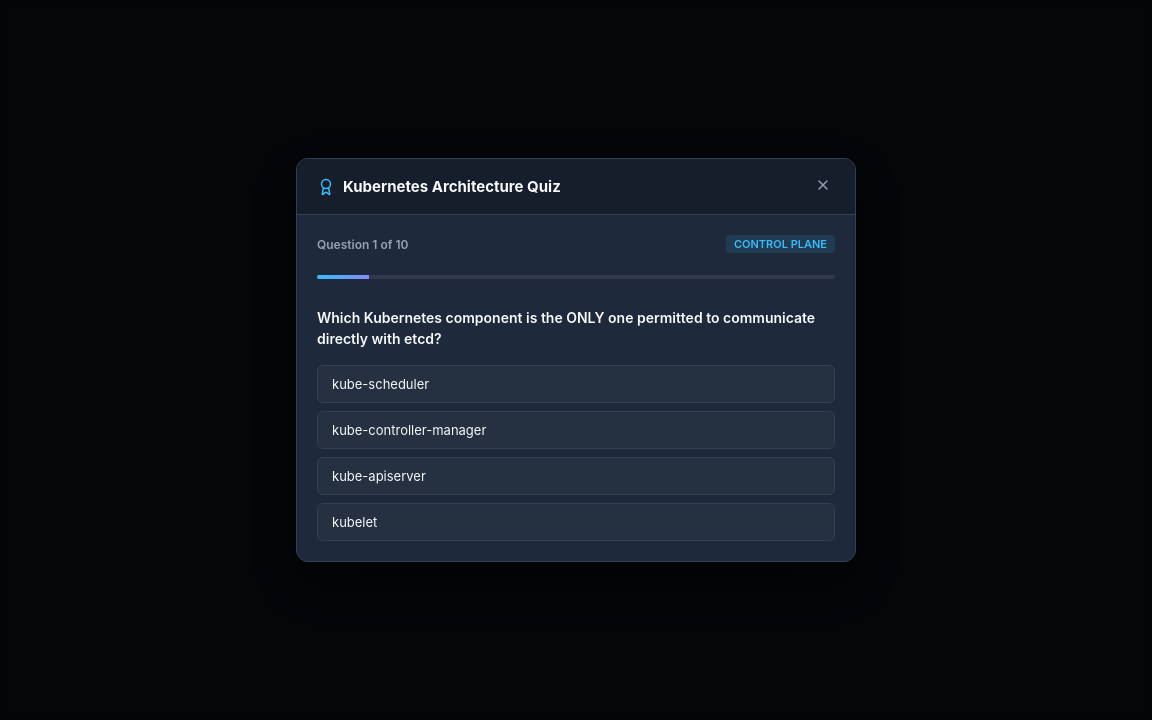
Test: QuizModal › displays explanation after selecting an option
Click the radio button with test id "quiz-opt-0": (381, 384) 317,365 -> 835,403
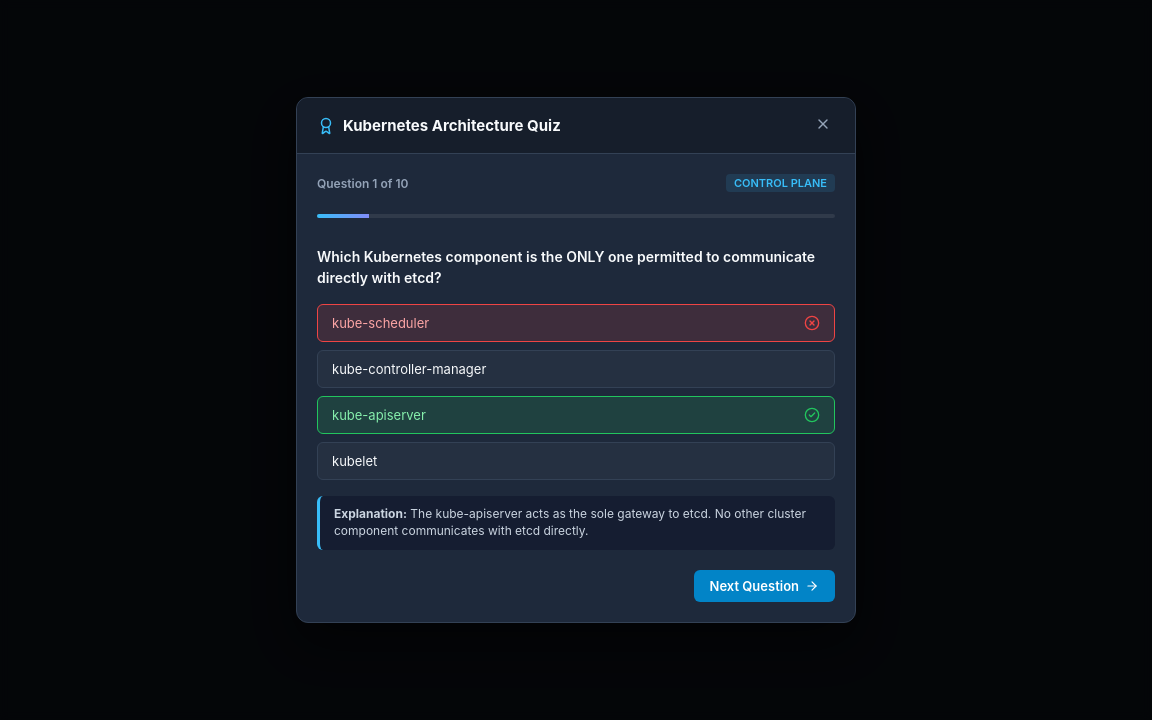
expect the element with test id "quiz-explanation" is shown: met, box 317,496 -> 835,550
expect the button with test id "quiz-next-btn" is shown: met, box 694,570 -> 835,602
